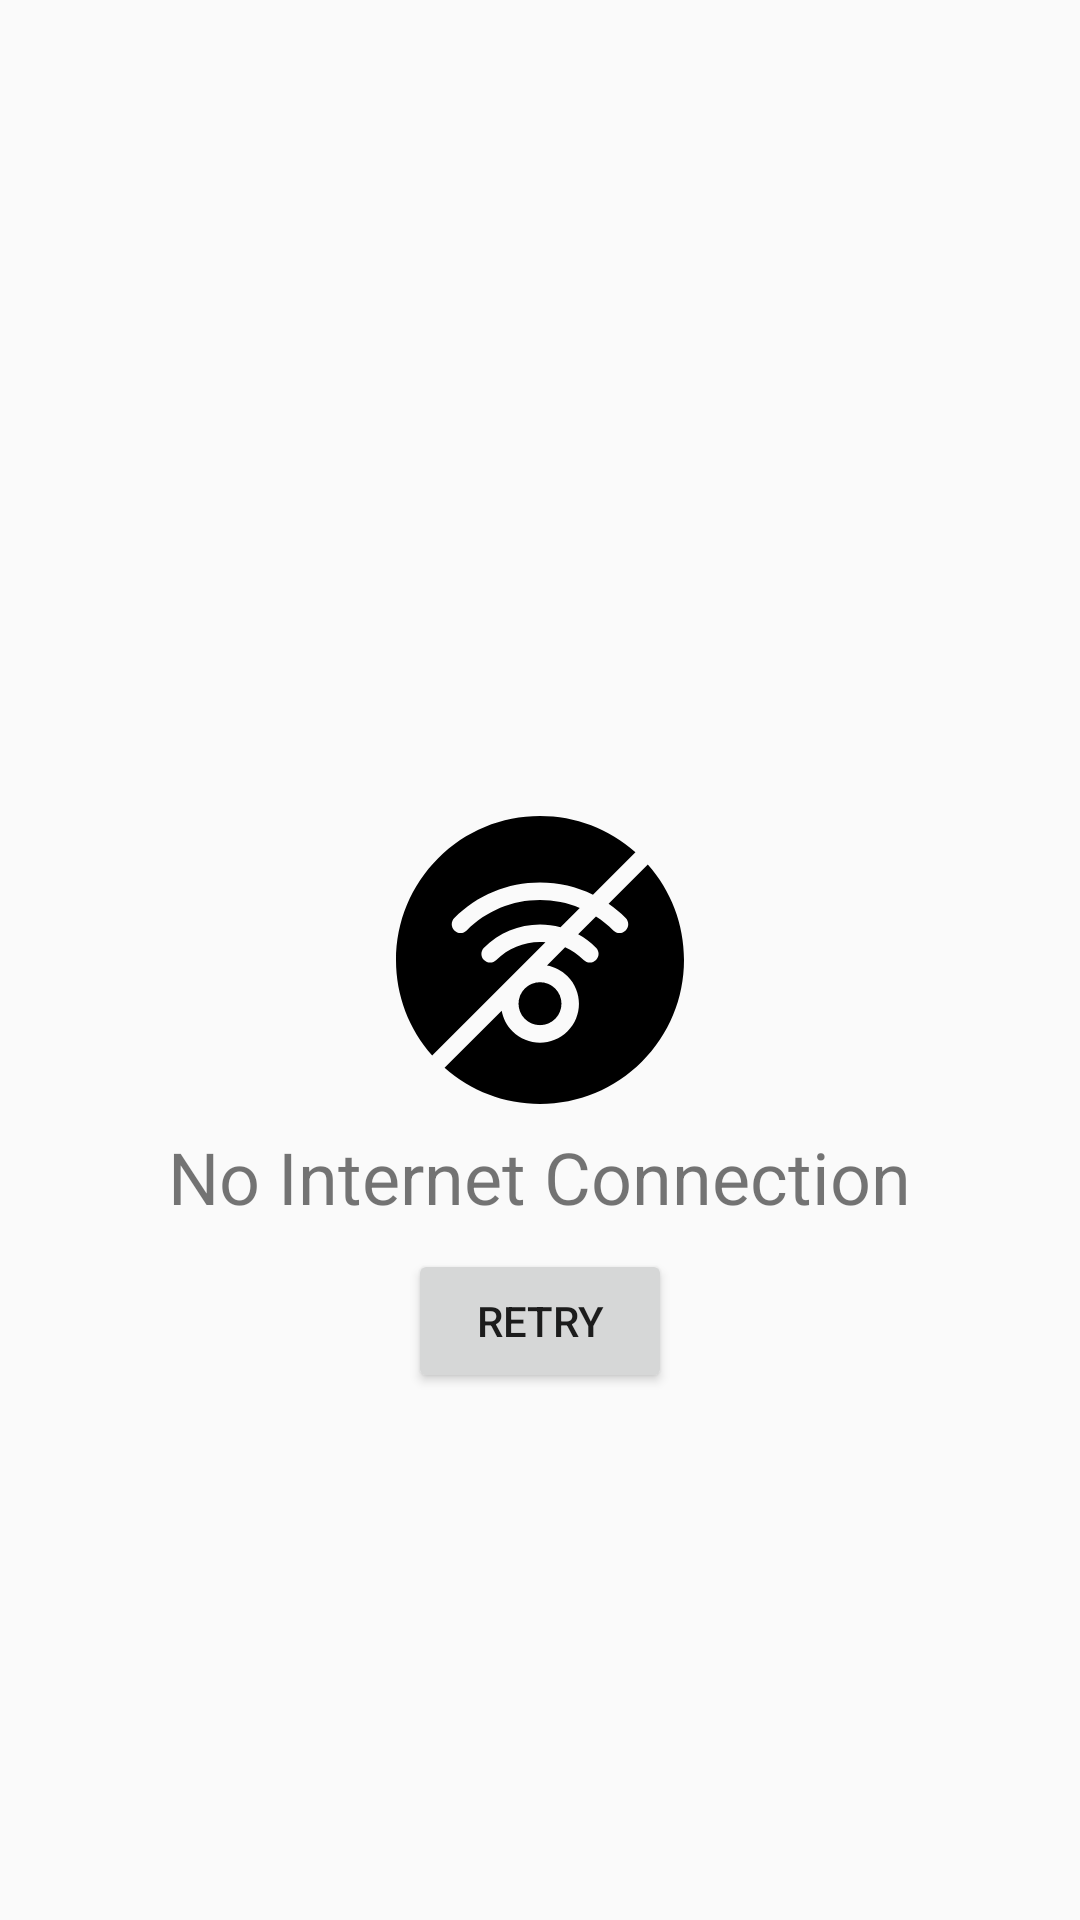

Icon click points for this 1080x1920 phone screenshot, format (x=x, y=y):
no wifi: (x=540, y=960)
